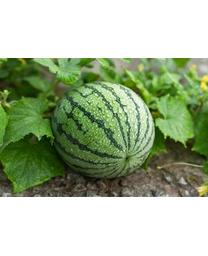watermelon: (48, 80, 156, 179)
